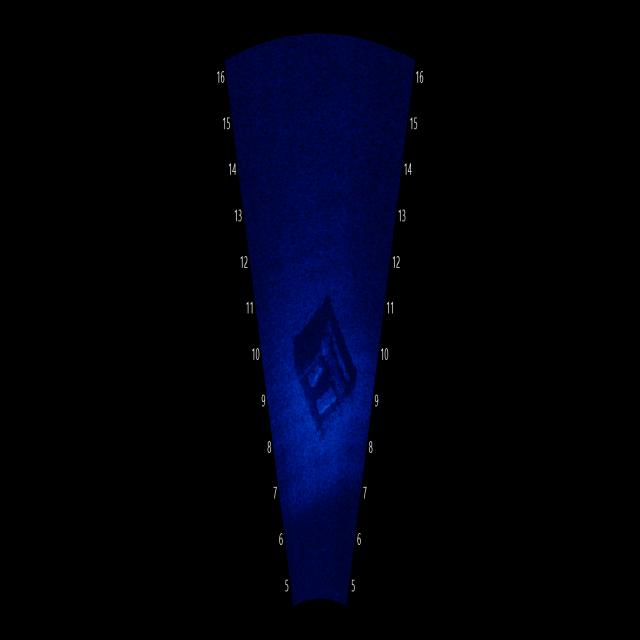square: (288, 293, 364, 448)
